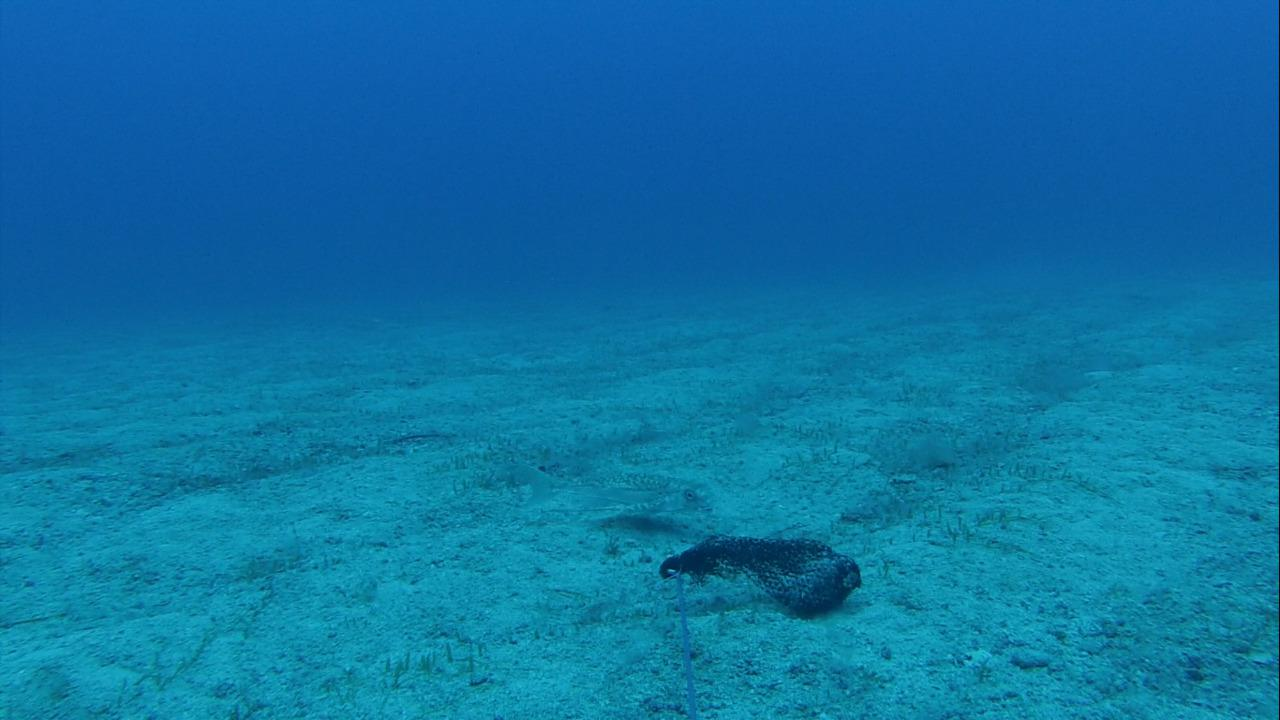dactylopterus: (501, 458, 728, 538)
